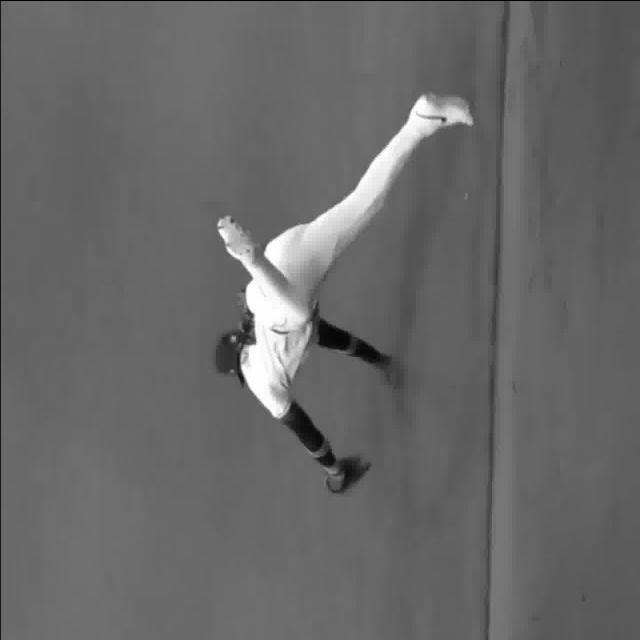baseball_glove: (321, 450, 374, 500)
shoe: (410, 84, 478, 132), (216, 214, 254, 266)
